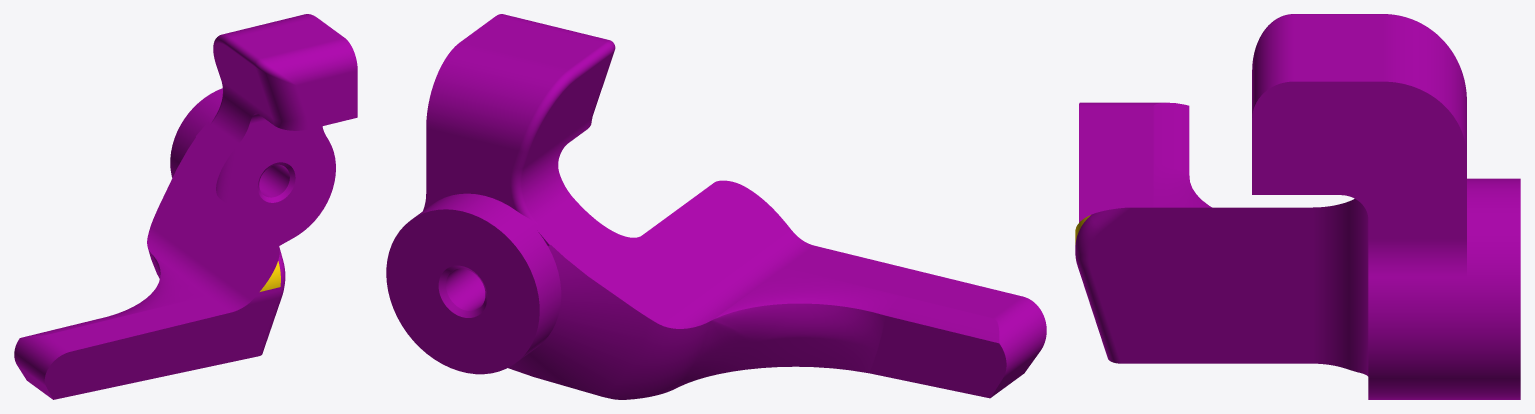
The model's file is liftleverLH.gltf.
3 renders of one model, left to right at view 1: azimuth 30°, elevation 25°; view 2: azimuth 150°, elevation 25°; view 3: azimuth 270°, elevation 25°, orthographic. The views are drawn at different scales.
Visible parts, largest first — view 1: 68-1366_import; view 2: 68-1366_import; view 3: 68-1366_import.
Boxes of the visible parts, left/top/right/bottom form: 68-1366_import: left=14, top=14, right=357, bottom=399; 68-1366_import: left=386, top=14, right=1046, bottom=399; 68-1366_import: left=1075, top=14, right=1520, bottom=399.
Bounding box in the file's own units: 0.0399 × 0.0244 × 0.0253.
